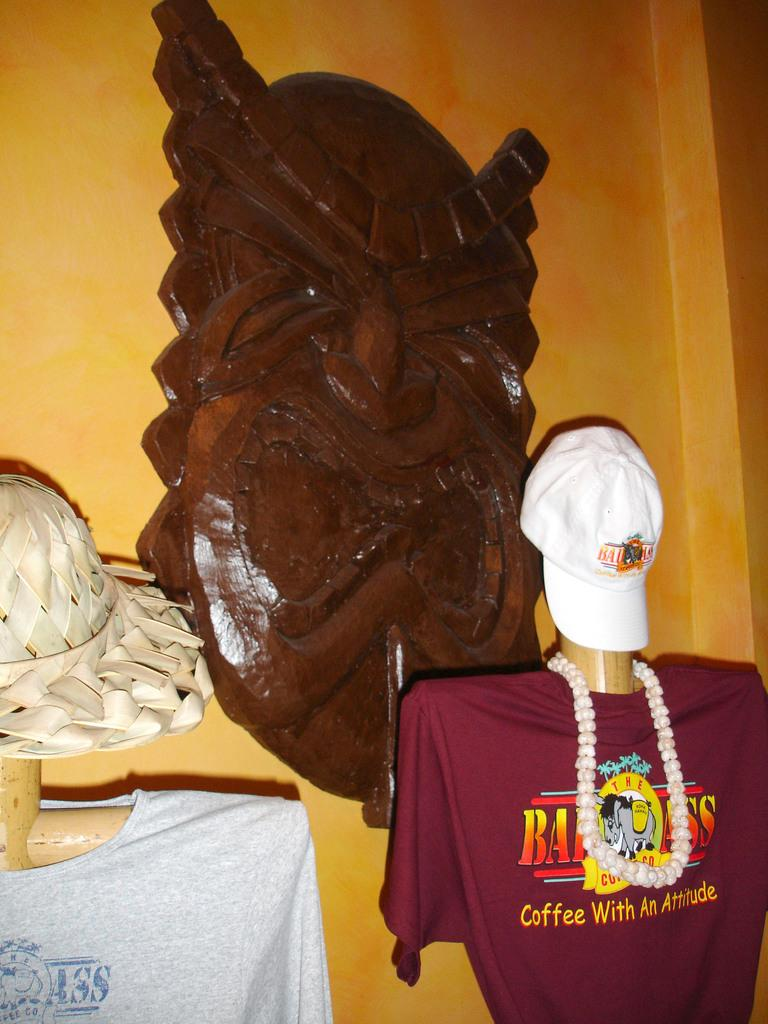Hat: (518, 424, 665, 653)
